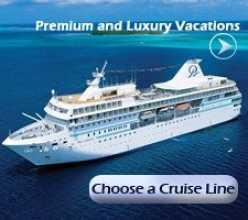youlun: (2, 54, 240, 171)
